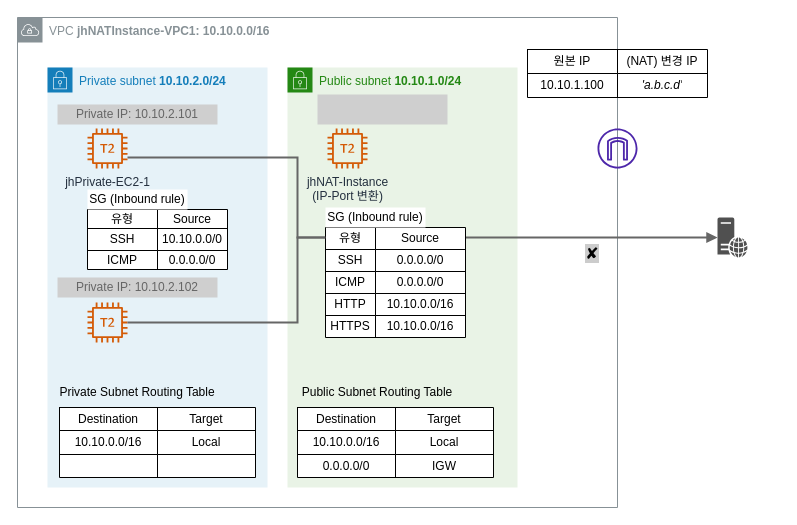
Some shapes in this 797 by 525 pixel diagram are drawn without their labels. The shapes that lost their labels are listed below. From the top down, each one's centre as x and y in pixels, then its label:
pixel 382 109: Private IP: 10.10.1.100 EIP: 'a.b.c.d'
pixel 617 148: Internet Gateway (IP 변환) NAT
pixel 732 237: 외부 인터넷 웹서버
pixel 107 322: jhPrivate-EC2-2
